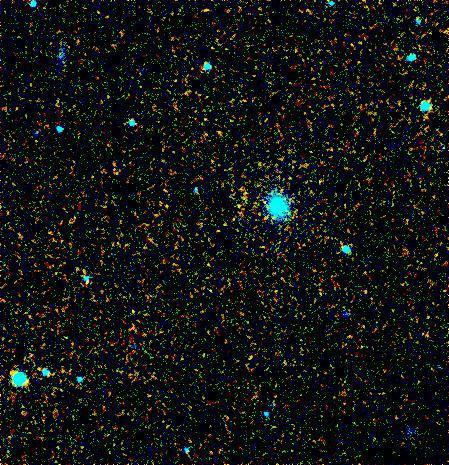star: (223, 191, 253, 221)
